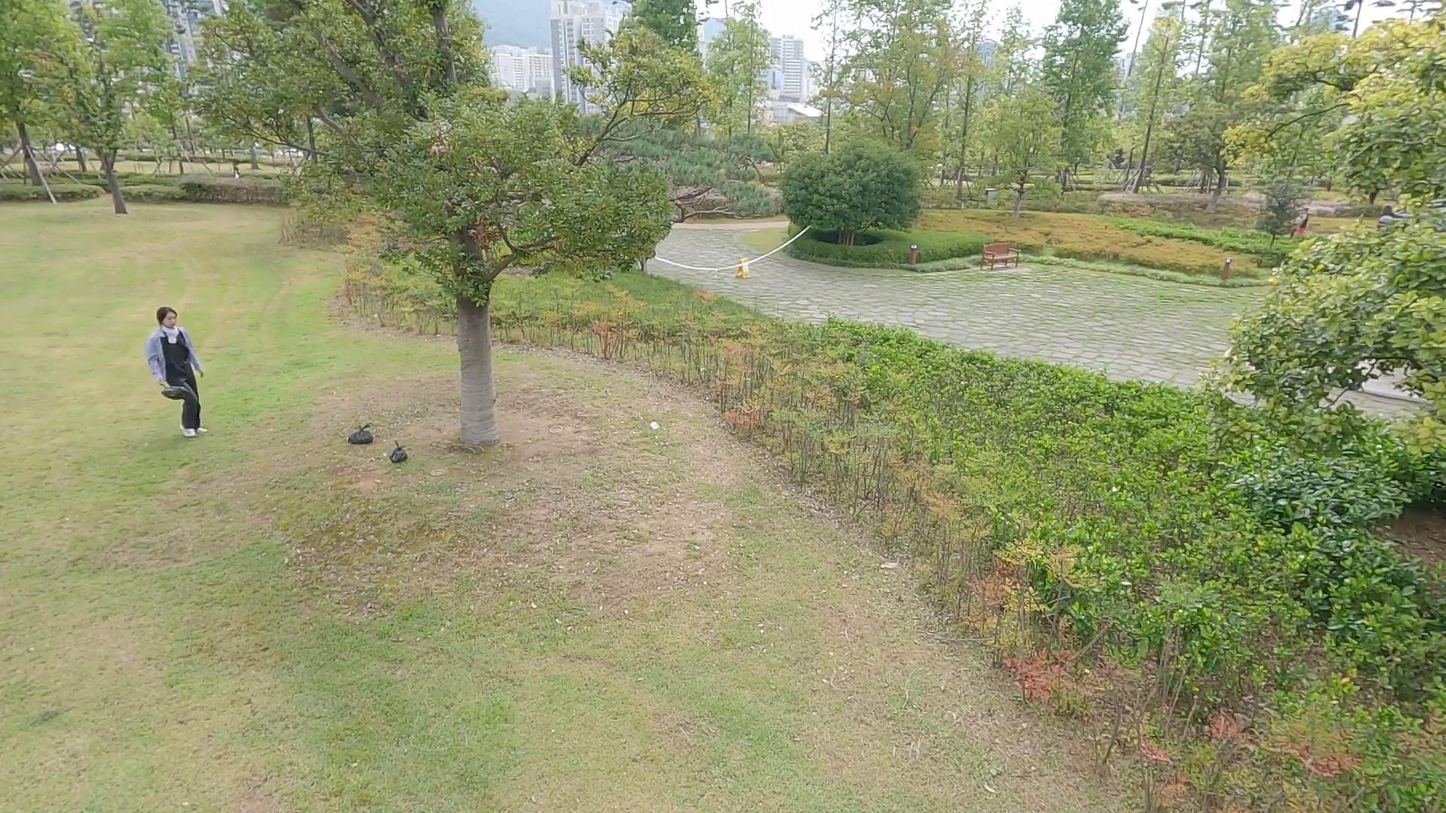person: (144, 303, 214, 441)
trash: (346, 421, 376, 448), (386, 439, 410, 468), (159, 381, 191, 402)
